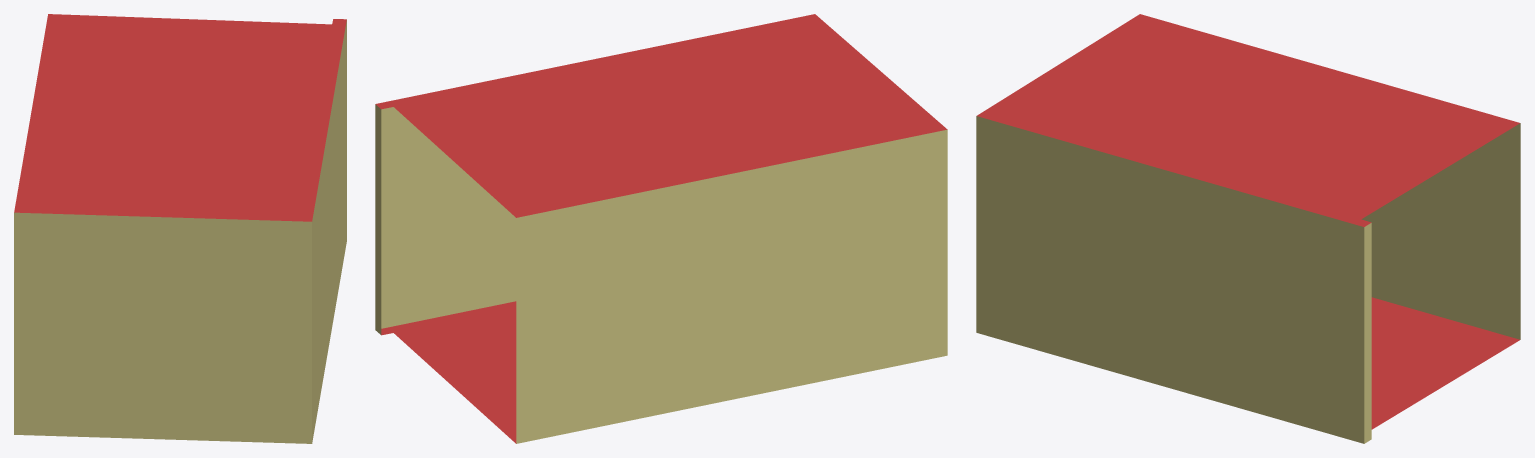
The picture shows the model from 3 angles, left to right: view 1: azimuth 30°, elevation 25°; view 2: azimuth 150°, elevation 25°; view 3: azimuth 270°, elevation 25°; orthographic projection. The views are drawn at different scales.
Visible parts, largest first — view 1: group_4, group_3; view 2: group_4, group_3, group_5; view 3: group_4, group_3, group_5.
Boxes of the visible parts, x1,y1,x2,y2 form: group_4: [14, 20, 346, 443]; group_3: [14, 14, 346, 221]; group_4: [375, 104, 947, 443]; group_3: [375, 14, 947, 217]; group_5: [381, 301, 516, 443]; group_4: [976, 116, 1520, 443]; group_3: [977, 14, 1519, 226]; group_5: [1371, 297, 1519, 429].
Bounding box in the file's own units: 11.52 × 12.42 × 5.46.
